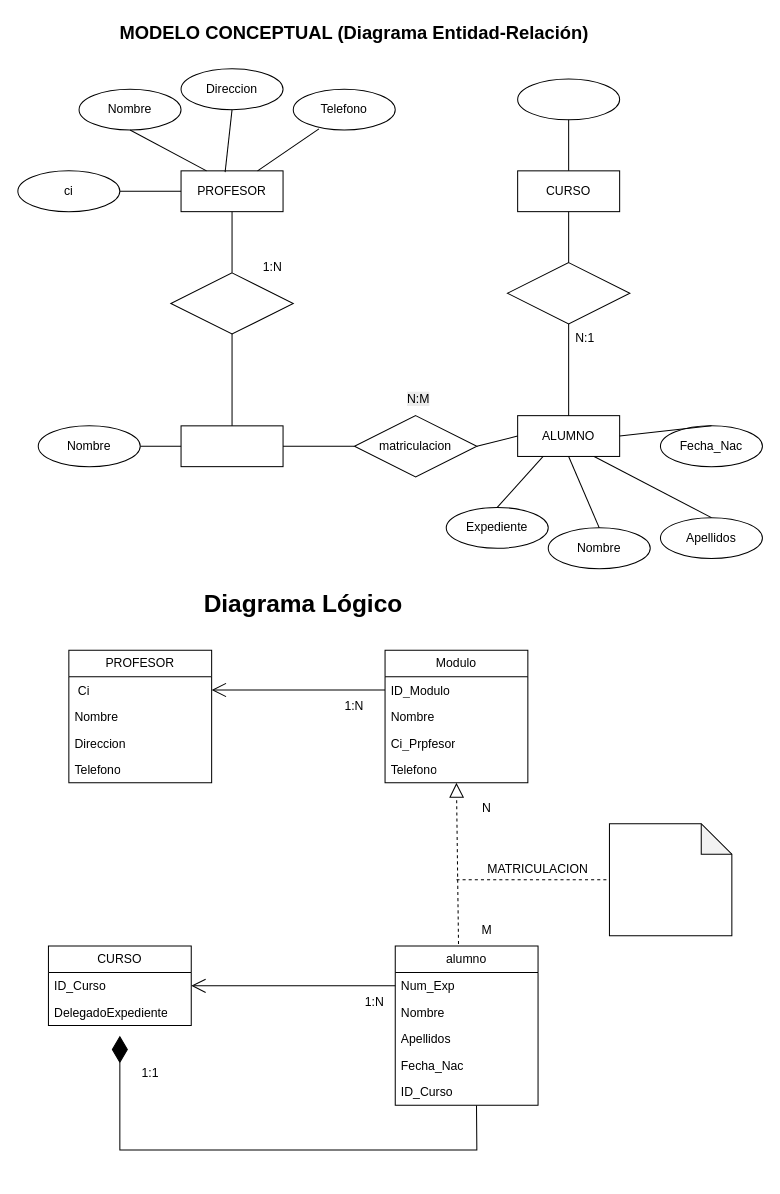
Some shapes in this 780 by 1194 pixel diagram are drawn without their labels. The shapes that lost their labels are listed below. From the top down, each one's box as (x1, y1, x2, y2) in pixels, then its label:
(517, 78, 620, 120): Delegado
(170, 272, 293, 334): imparte
(506, 262, 630, 324): pertenece
(180, 425, 283, 467): MÓDULO
(608, 823, 732, 936): Num_expediente ID_modulo Fecha_Matriculacion
